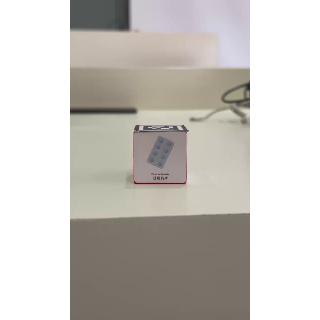Tablet: (137, 132, 187, 183)
